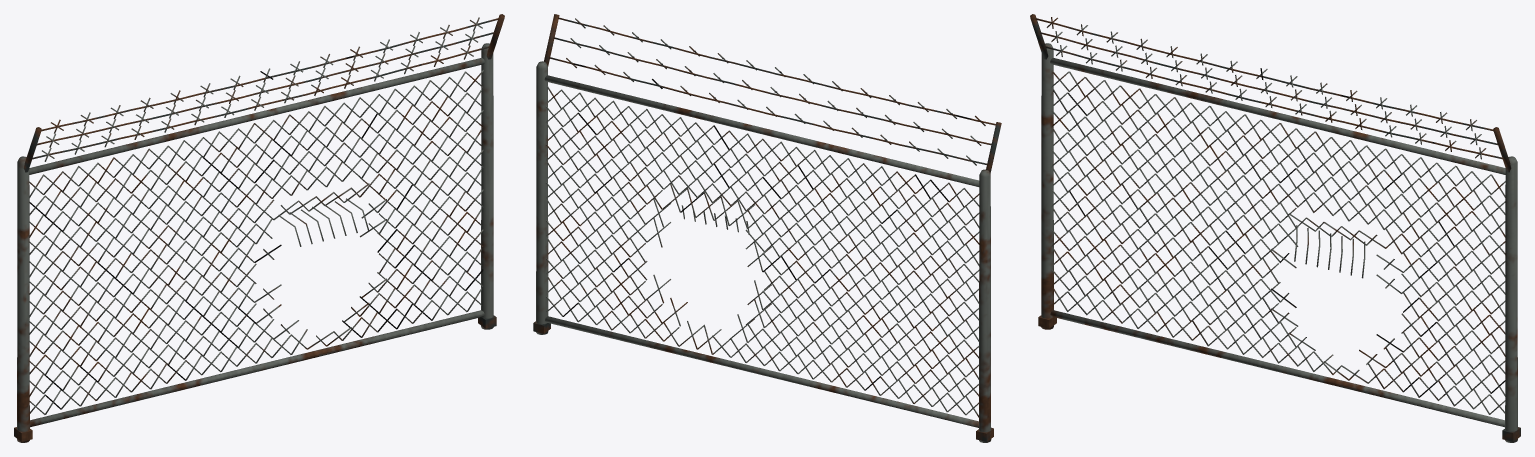
File: chain_fence.glb
3 renders of one model, left to right at view 1: azimuth 30°, elevation 25°; view 2: azimuth 150°, elevation 25°; view 3: azimuth 330°, elevation 25°, orthographic. The views are drawn at different scales.
Parts seen in each view (by area): view 1: chain_fence; view 2: chain_fence; view 3: chain_fence.
Part boxes in pixels (bbox=[...]): chain_fence: bbox=[14, 14, 504, 442]; chain_fence: bbox=[533, 14, 1001, 442]; chain_fence: bbox=[1030, 14, 1520, 442].
Size of the model in its own units: 4 by 2.61 by 0.309.
Materials: 1 (1 with a texture image).
